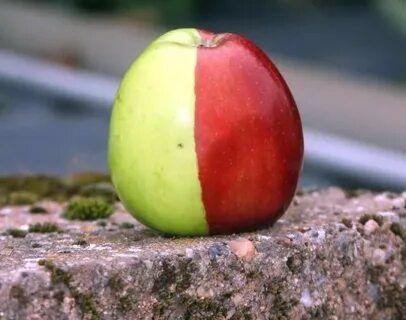Apple: (110, 26, 302, 231)
